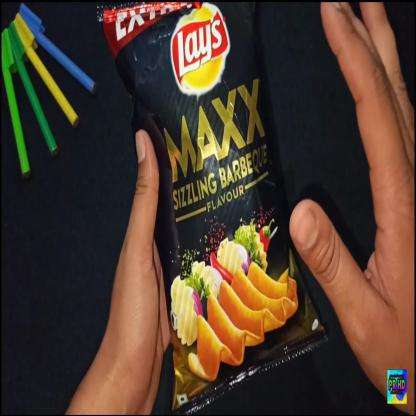maxx_sizzling_barbeque: (131, 5, 307, 409)
